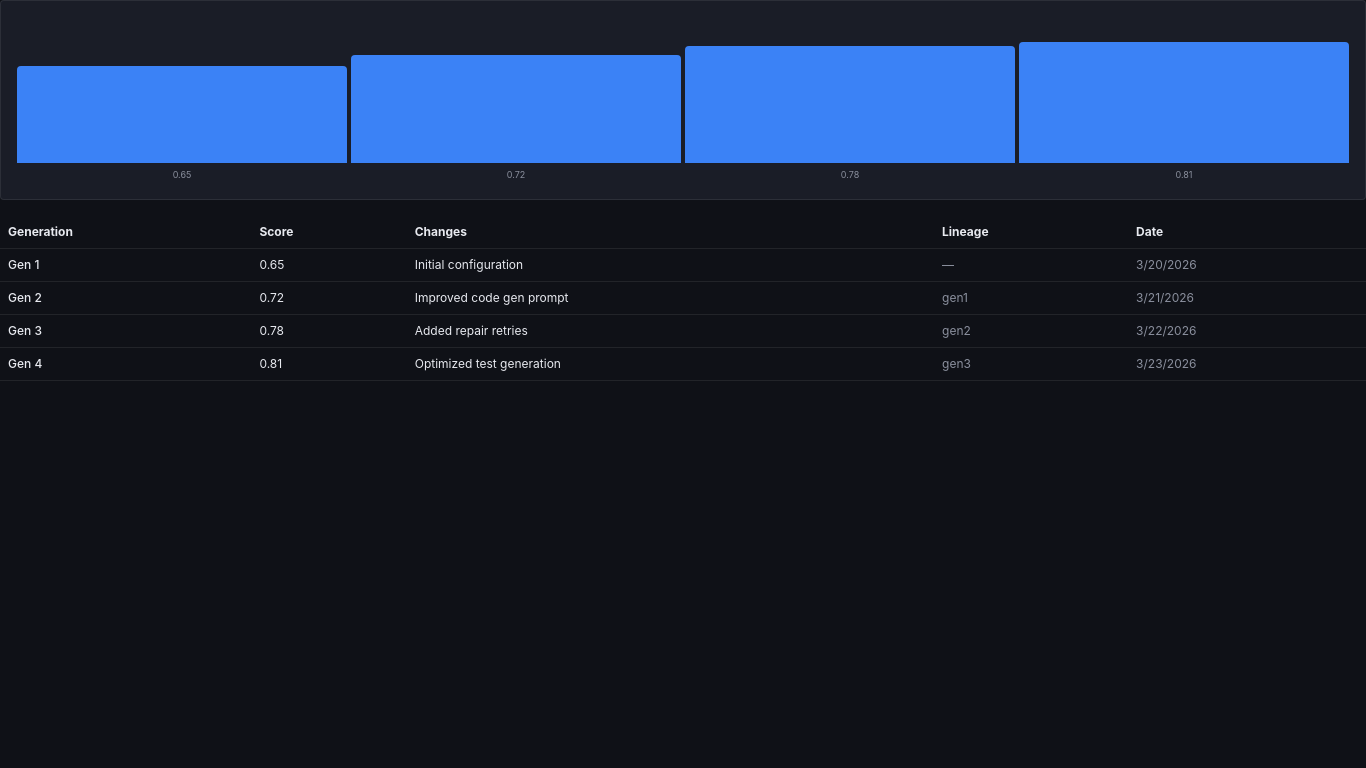
Test: QualityArchive (Phase 4) › clicking a row shows detail
Click the text "Improved code gen prompt" at (492, 298), box [407,282,934,314]
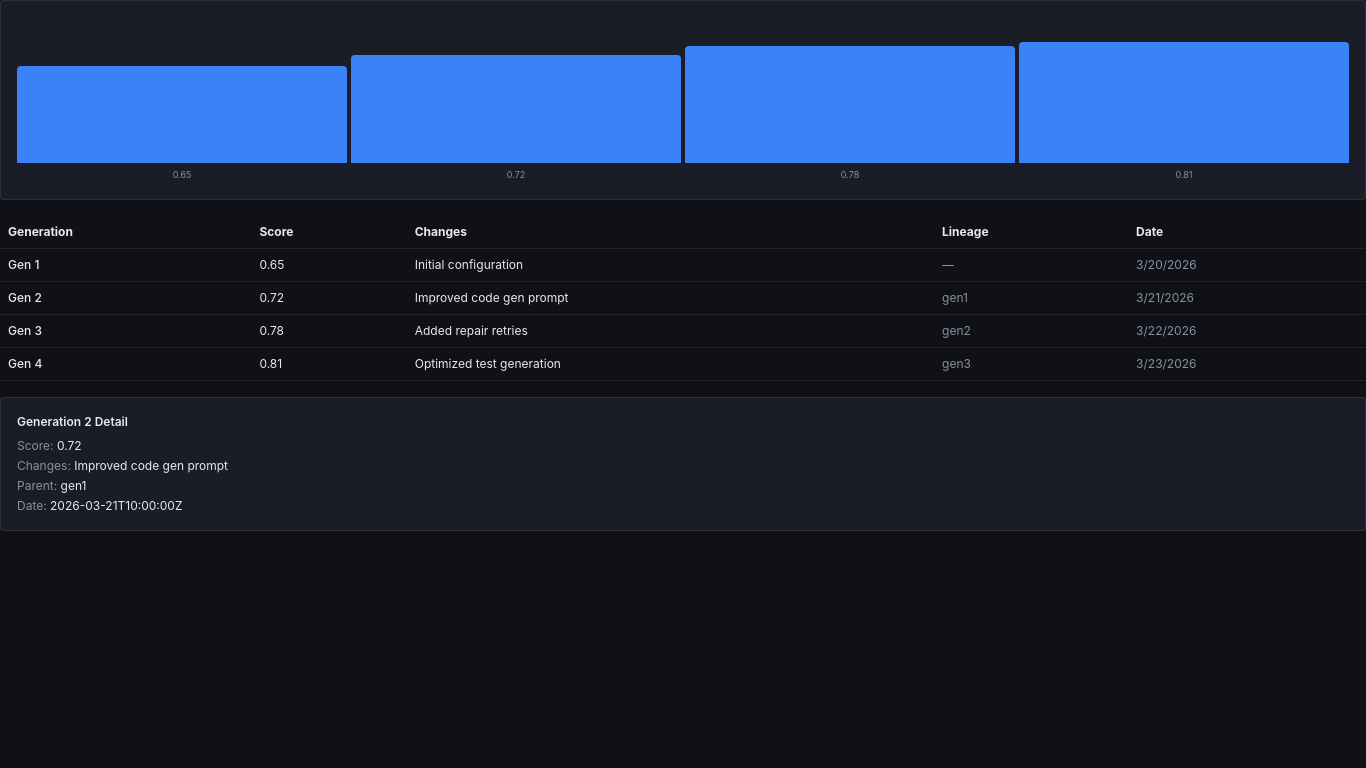
Now the element with test id "archive-detail" is shown, box [0,397,1365,531]
